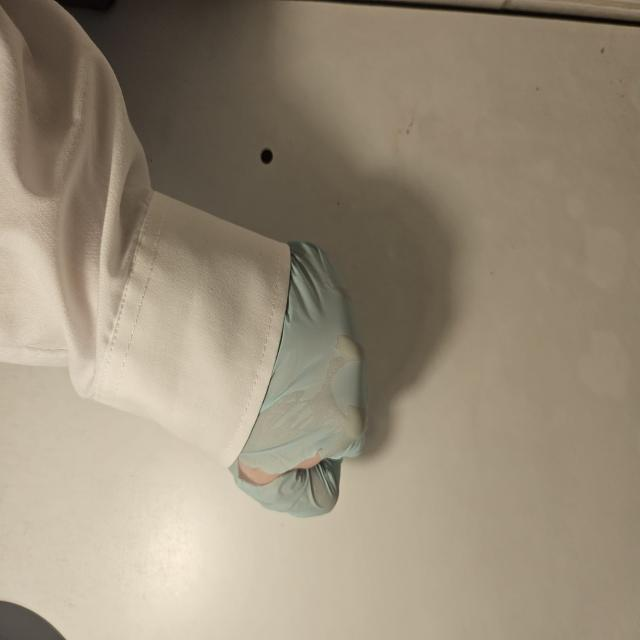gloves_damaged: (228, 239, 370, 519)
